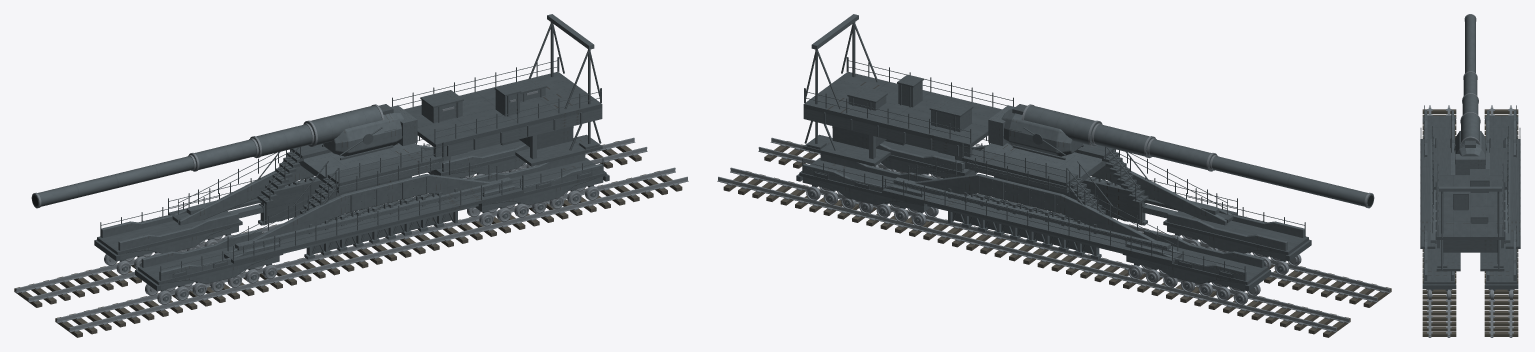
Rendered from runtime-art-large.glb.
3 views of the same model, side by side, from view 1: azimuth 30°, elevation 25°; view 2: azimuth 150°, elevation 25°; view 3: azimuth 270°, elevation 25° (orthographic). The views are drawn at different scales.
Visible parts, largest first — view 1: main-outer-frame-paint-batch, walkways-deck-batch, closed-cylinder-shell-paint-batch, display-rails-steel-batch, display-rails-sleeper-batch, rear-display-deck-deck-batch, walkways-trim-batch, rear-display-deck-trim-batch, rear-display-deck-paint-batch, main-outer-frame-trim-batch, surface-decoration-trim-batch, surface-decoration-paint-batch (+1 smaller); view 2: main-outer-frame-paint-batch, walkways-deck-batch, closed-cylinder-shell-paint-batch, display-rails-steel-batch, display-rails-sleeper-batch, rear-display-deck-deck-batch, walkways-trim-batch, rear-display-deck-trim-batch, rear-display-deck-paint-batch, main-outer-frame-trim-batch, surface-decoration-trim-batch, surface-decoration-paint-batch (+1 smaller); view 3: walkways-deck-batch, rear-display-deck-deck-batch, display-rails-sleeper-batch, closed-cylinder-shell-paint-batch, main-outer-frame-paint-batch, rear-display-deck-trim-batch, surface-decoration-trim-batch, walkways-trim-batch, display-rails-steel-batch, rear-display-deck-paint-batch, closed-cylinder-shell-steel-batch, closed-cylinder-shell-trim-batch (+1 smaller).
Part boxes in pixels (left/top/right/bottom): main-outer-frame-paint-batch: left=101, top=143, right=603, bottom=290; walkways-deck-batch: left=97, top=141, right=606, bottom=284; closed-cylinder-shell-paint-batch: left=32, top=105, right=417, bottom=207; display-rails-steel-batch: left=15, top=137, right=688, bottom=332; display-rails-sleeper-batch: left=14, top=141, right=682, bottom=337; rear-display-deck-deck-batch: left=404, top=72, right=602, bottom=166; walkways-trim-batch: left=100, top=136, right=603, bottom=280; rear-display-deck-trim-batch: left=392, top=22, right=601, bottom=149; rear-display-deck-paint-batch: left=421, top=14, right=602, bottom=158; main-outer-frame-trim-batch: left=119, top=173, right=593, bottom=291; surface-decoration-trim-batch: left=94, top=87, right=609, bottom=290; surface-decoration-paint-batch: left=122, top=172, right=596, bottom=301; main-outer-frame-paint-batch: left=802, top=143, right=1304, bottom=290; walkways-deck-batch: left=799, top=141, right=1308, bottom=284; closed-cylinder-shell-paint-batch: left=988, top=105, right=1373, bottom=207; display-rails-steel-batch: left=717, top=137, right=1390, bottom=332; display-rails-sleeper-batch: left=723, top=141, right=1391, bottom=337; rear-display-deck-deck-batch: left=803, top=72, right=1001, bottom=166; walkways-trim-batch: left=802, top=136, right=1305, bottom=280; rear-display-deck-trim-batch: left=804, top=22, right=1013, bottom=149; rear-display-deck-paint-batch: left=803, top=14, right=972, bottom=158; main-outer-frame-trim-batch: left=812, top=173, right=1286, bottom=291; surface-decoration-trim-batch: left=796, top=83, right=1311, bottom=290; surface-decoration-paint-batch: left=809, top=172, right=1283, bottom=301; walkways-deck-batch: left=1420, top=115, right=1520, bottom=284; rear-display-deck-deck-batch: left=1436, top=175, right=1504, bottom=271; display-rails-sleeper-batch: left=1422, top=109, right=1518, bottom=336; closed-cylinder-shell-paint-batch: left=1455, top=15, right=1485, bottom=174; main-outer-frame-paint-batch: left=1425, top=110, right=1515, bottom=289; rear-display-deck-trim-batch: left=1437, top=163, right=1503, bottom=263; surface-decoration-trim-batch: left=1422, top=117, right=1518, bottom=288; walkways-trim-batch: left=1420, top=105, right=1520, bottom=281; display-rails-steel-batch: left=1427, top=105, right=1513, bottom=337; rear-display-deck-paint-batch: left=1437, top=181, right=1503, bottom=248; closed-cylinder-shell-steel-batch: left=1460, top=14, right=1480, bottom=144; closed-cylinder-shell-trim-batch: left=1454, top=140, right=1486, bottom=150.
Size of the model in its own units: 30.26 by 7.25 by 5.52.
Materials: 6 (3 with a texture image).
